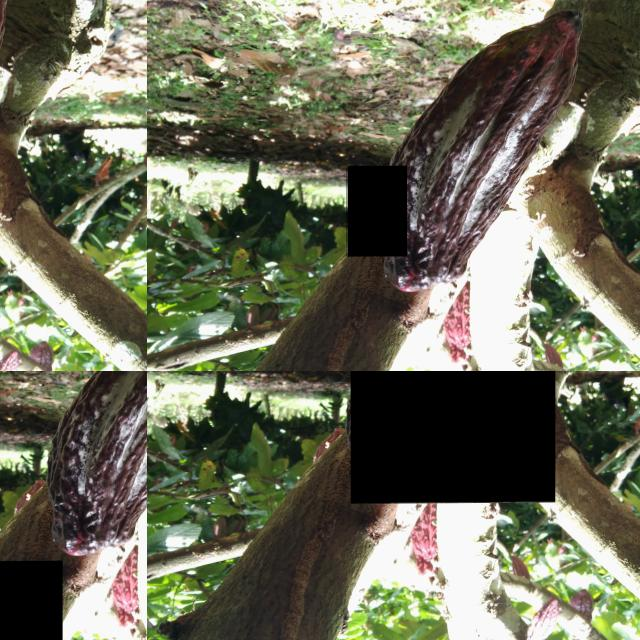Monilia: (350, 371, 555, 504), (0, 424, 108, 538)
Sana: (47, 371, 142, 495), (346, 166, 406, 257), (482, 233, 538, 314), (382, 48, 413, 94), (526, 600, 560, 640), (575, 591, 591, 615)
